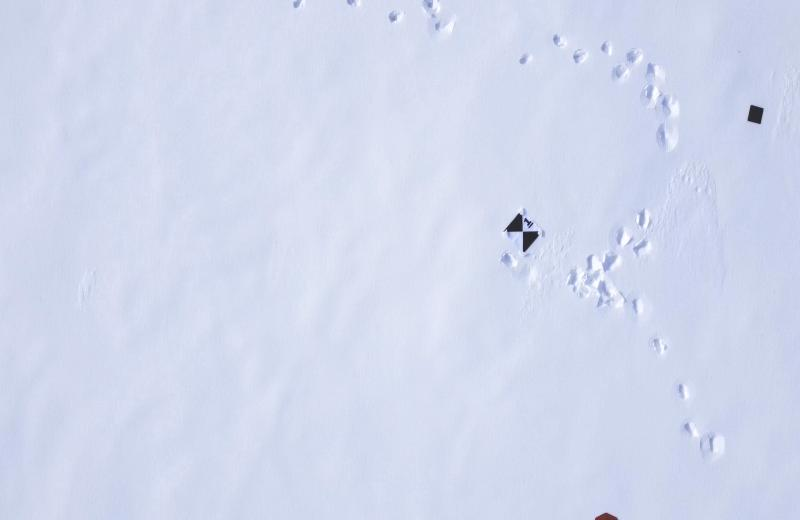Square: (746, 103, 764, 125)
